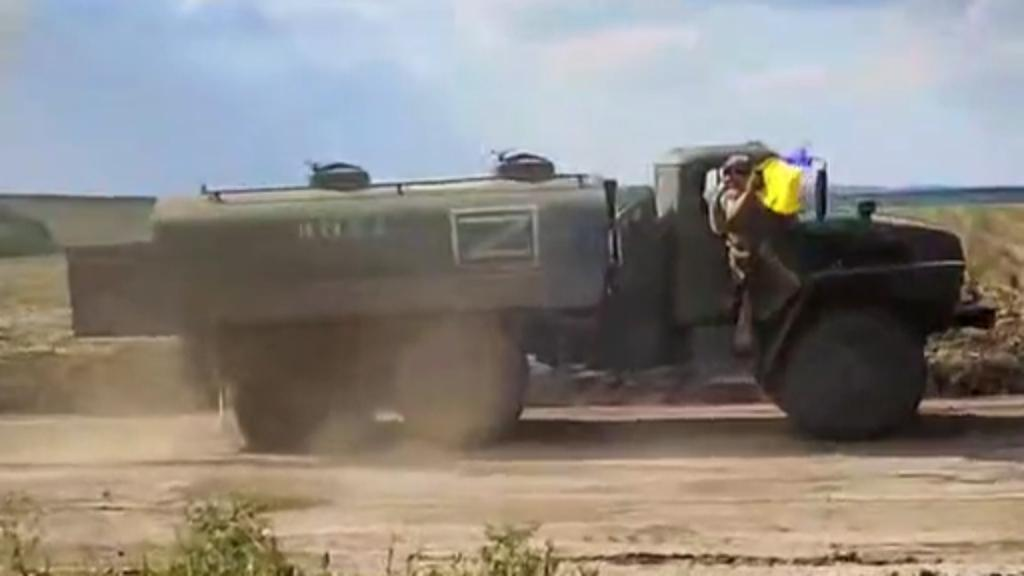TRUCK: (46, 130, 996, 446)
